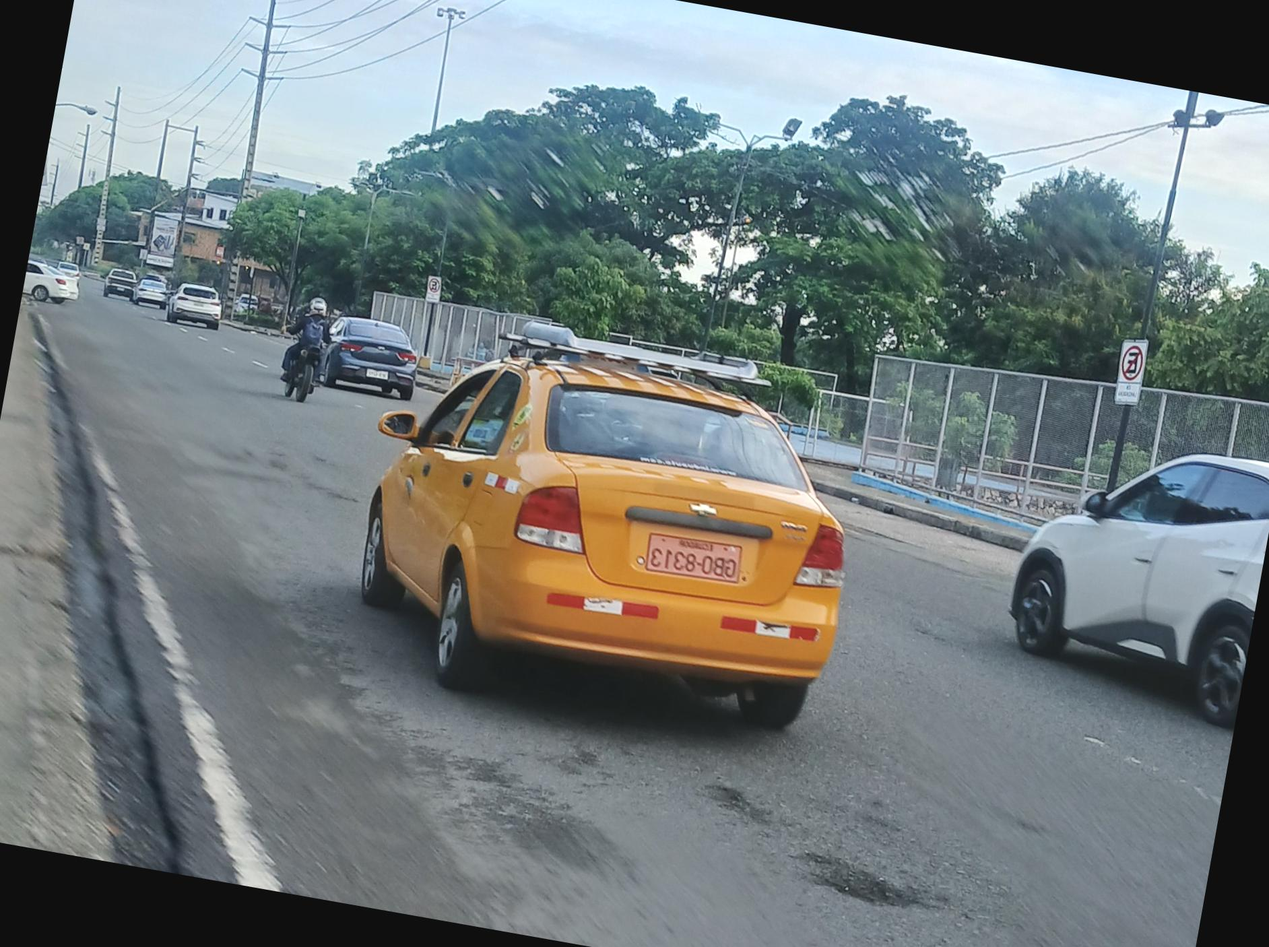license_plate: (640, 525, 750, 593), (364, 368, 389, 381)
